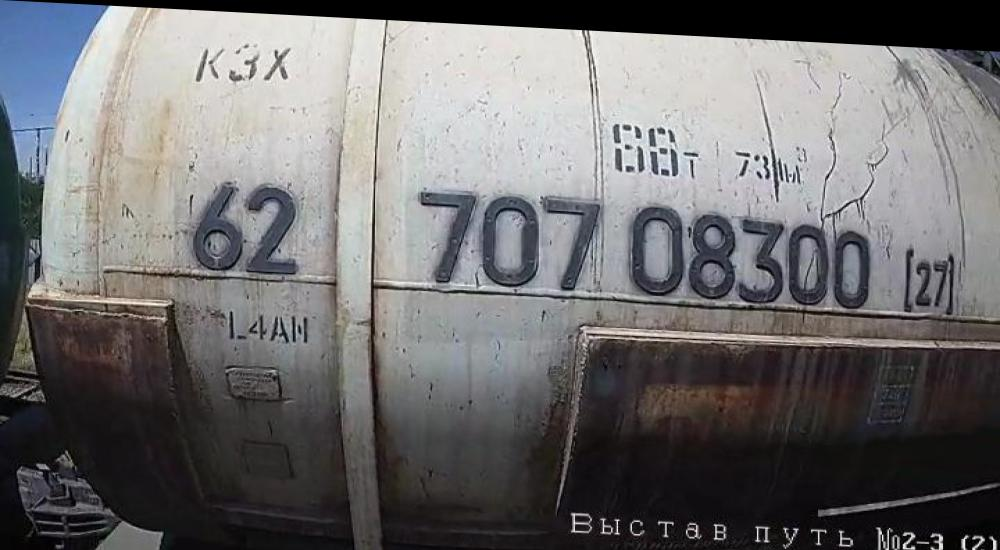Wagon-number: (413, 180, 877, 303)
